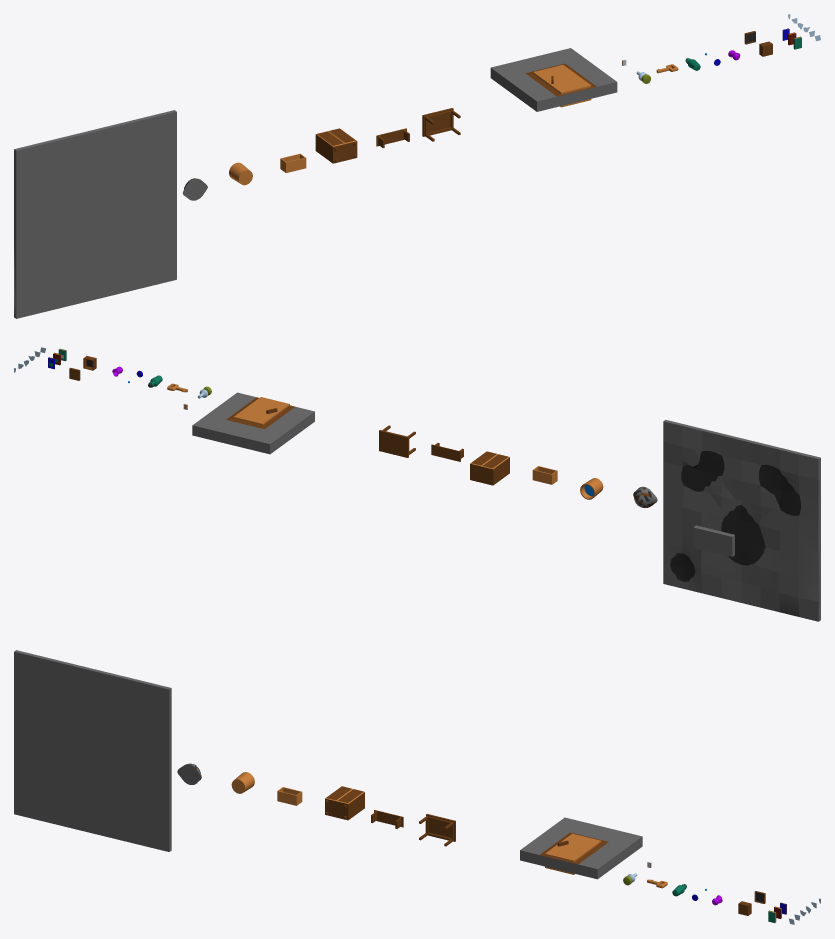
File: ForHorror.fbx
The picture shows the model from 3 angles, top to bottom: view 1: azimuth 30°, elevation 25°; view 2: azimuth 150°, elevation 25°; view 3: azimuth 330°, elevation 25°; orthographic projection. The views are drawn at different scales.
Visible parts, largest first — view 1: Dirt, Door, Wardrobe, Table; view 2: Dirt, Door, Wardrobe, TrującySufit, Table; view 3: Dirt, Door, Wardrobe, Table.
Part boxes in pixels (x1=…): Dirt: x1=14, y1=110, x2=176, y2=318; Door: x1=490, y1=48, x2=617, y2=111; Wardrobe: x1=315, y1=128, x2=357, y2=163; Table: x1=422, y1=108, x2=460, y2=141; Dirt: x1=663, y1=420, x2=820, y2=621; Door: x1=192, y1=392, x2=314, y2=454; Wardrobe: x1=470, y1=451, x2=509, y2=485; TrującySufit: x1=693, y1=525, x2=734, y2=556; Table: x1=379, y1=425, x2=415, y2=457; Dirt: x1=14, y1=650, x2=171, y2=851; Door: x1=520, y1=817, x2=642, y2=879; Wardrobe: x1=325, y1=786, x2=364, y2=820; Table: x1=419, y1=814, x2=455, y2=846.
Size of the model in its own units: 8038 by 1600 by 820.
